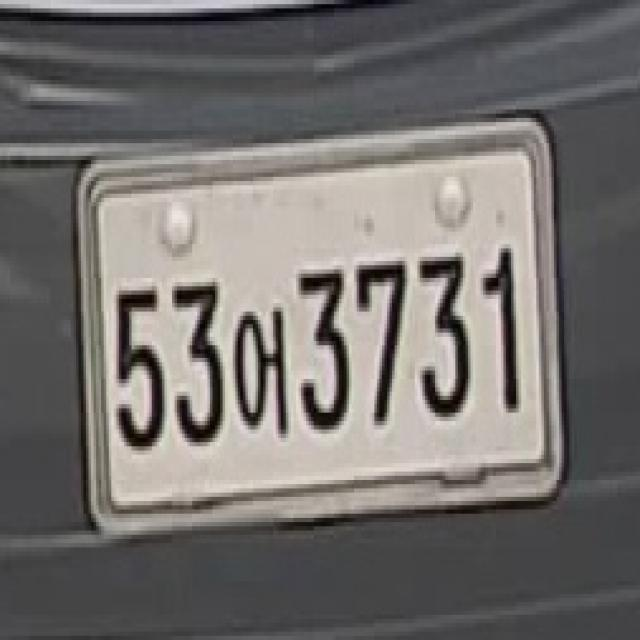1: (476, 232, 526, 429)
3: (412, 219, 478, 450), (170, 236, 228, 488), (301, 244, 357, 451)
5: (101, 257, 175, 484)
7: (352, 219, 420, 455)
eo: (225, 282, 299, 467)
license_plate: (81, 109, 564, 552)
